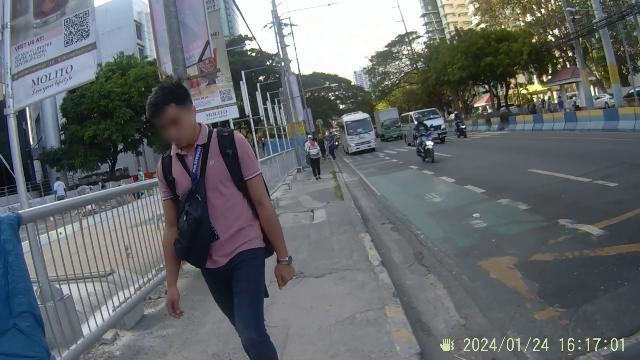car: (334, 109, 382, 154)
